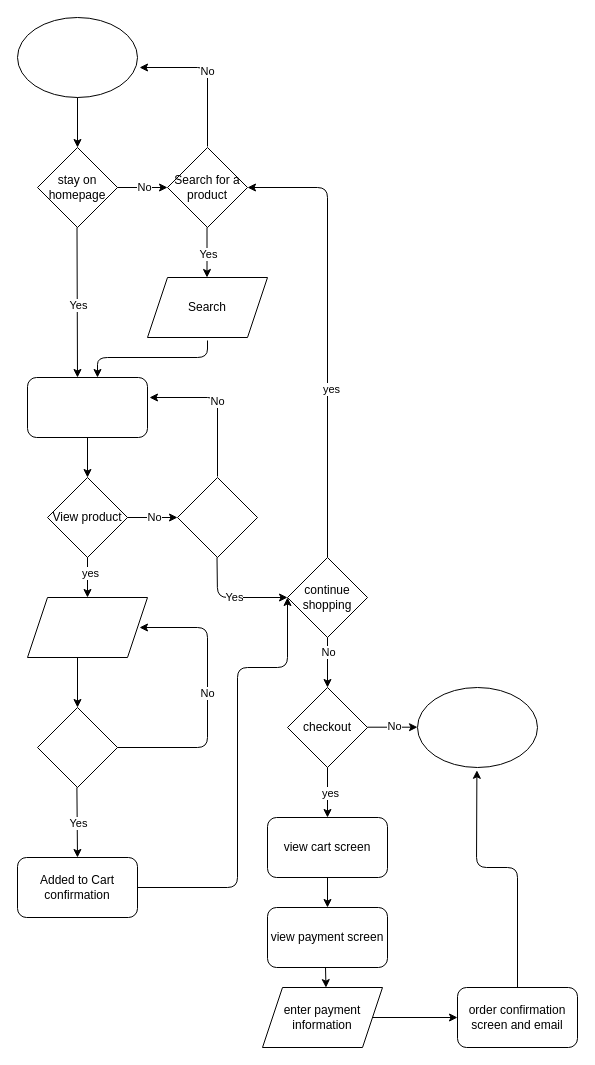
Some shapes in this 595 by 1065 pixel diagram are drawn without their labels. Each missing label, with the centre of its shape:
"Aff item to cart" goes at (x=77, y=747).
"Don't view product" goes at (x=217, y=517).
"leave website" goes at (x=477, y=727).
"Product page" goes at (x=87, y=407).
"product page open" goes at (x=87, y=627).
"start(enter the website)" goes at (x=77, y=57).
